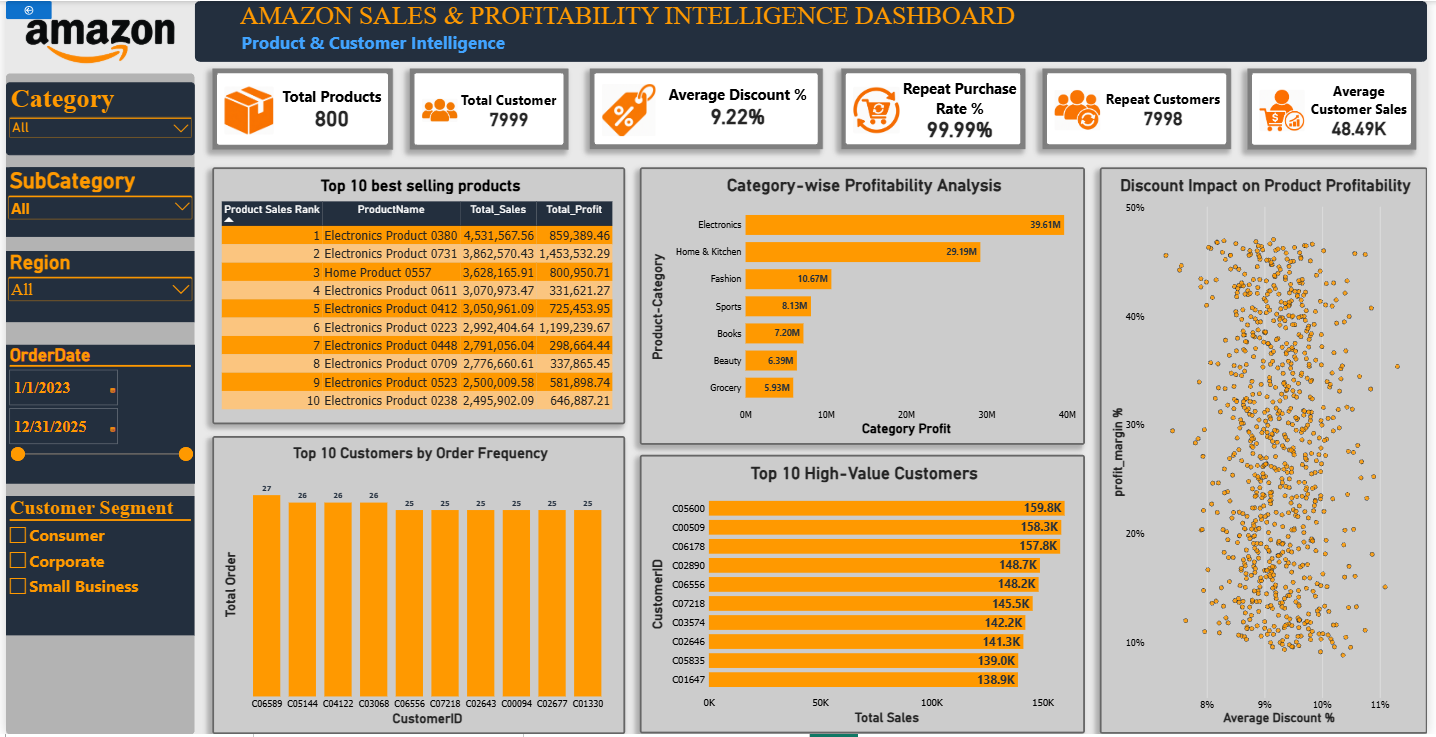

This screenshot's page, from the dashboard's own definition file:
{"tool":"powerbi","page":{"name":"product & customer intelligence","canvas":[3100,1600],"ordinal":1},"visuals":[{"type":"shape","box":[0,157.7,411.2,1441.9],"z":0},{"type":"shape","box":[412.1,0,2688.6,132.9],"z":1000},{"type":"image","box":[35.4,16.1,337.7,141.5],"z":2000},{"type":"textbox","box":[509.7,0,1934.7,132.4],"z":3000},{"type":"cardVisual","fields":{"Data":["Products.Total Products"]},"box":[450.6,146.4,394.3,177.4],"z":4000},{"type":"cardVisual","fields":{"Data":["Customers.Repeat Customers"]},"box":[2261.4,146.4,412.1,176.1],"z":5000},{"type":"cardVisual","fields":{"Data":["Sales.Average Discount %"]},"box":[1272.9,146.4,508.5,176.1],"z":6000},{"type":"cardVisual","fields":{"Data":["Customers.Average Customer Sales"]},"box":[2706.3,146.4,368.9,177.4],"z":7000},{"type":"cardVisual","fields":{"Data":["Customers.Repeat Purchase Rate %"]},"box":[1822,146.4,402.1,176.1],"z":8000},{"type":"tableEx","title":"Top 10 best selling products","fields":{"Values":["Products.Product Sales Rank","Products.ProductName","Sales.Total_Sales","Sales.Total_Profit"]},"box":[450.6,363.3,901.2,560.4],"z":9000},{"type":"actionButton","box":[0,0,100,40],"z":10000},{"type":"clusteredBarChart","title":"Category-wise Profitability Analysis","fields":{"Category":["Products.Category"],"Y":["Products.Category Profit"]},"box":[1382.7,363.3,971.6,605.5],"z":11000},{"type":"scatterChart","title":"\tDiscount Impact on Product Profitability","fields":{"Category":["Products.ProductName"],"X":["Sales.Average Discount %"],"Y":["Sales.profit_margin %"]},"box":[2385.3,363.3,715.3,1236.3],"z":12000},{"type":"clusteredBarChart","title":"Top 10 High-Value Customers","fields":{"Category":["Customers.CustomerID"],"Y":["Sales.Total_Sales"]},"box":[1382.7,988.5,971.6,608.3],"z":13000},{"type":"clusteredColumnChart","title":"Top 10 Customers by Order Frequency","fields":{"Category":["Customers.CustomerID"],"Y":["Sales.Total_Order"]},"box":[450.6,949,901.2,650.5],"z":14000},{"type":"slicer","fields":{"Values":["Products.Category"]},"box":[0,177.4,412.1,159.5],"z":15000},{"type":"slicer","fields":{"Values":["Customers.CustomerSegment"]},"box":[0,1078.6,411.2,304.1],"z":16000},{"type":"slicer","fields":{"Values":["Products.SubCategory"]},"box":[0,363.3,411.2,152.1],"z":17000},{"type":"slicer","fields":{"Values":["Sales.OrderDate"]},"box":[0,749.1,411.2,301.3],"z":18000},{"type":"slicer","fields":{"Values":["Regions.Region"]},"box":[0,546.3,411.2,154.9],"z":19000},{"type":"cardVisual","fields":{"Data":["Sales.Total_Customer"]},"box":[881.5,146.4,346.7,177.4],"z":20000}]}

Visuals, with their boxes in screenshot pixels (x1, y1, x2, y2), scaled from the page's 3100x1600 canvas onto the 1436x737 screenshot:
shape: box=[0, 73, 190, 736]
shape: box=[191, 0, 1435, 61]
image: box=[16, 7, 173, 73]
textbox: box=[236, 0, 1132, 61]
cardVisual - Products.Total Products: box=[209, 67, 391, 149]
cardVisual - Customers.Repeat Customers: box=[1048, 67, 1238, 149]
cardVisual - Sales.Average Discount %: box=[590, 67, 825, 149]
cardVisual - Customers.Average Customer Sales: box=[1254, 67, 1425, 149]
cardVisual - Customers.Repeat Purchase Rate %: box=[844, 67, 1030, 149]
"Top 10 best selling products" tableEx: box=[209, 167, 626, 425]
actionButton: box=[0, 0, 46, 18]
"Category-wise Profitability Analysis" clusteredBarChart: box=[641, 167, 1091, 446]
"	Discount Impact on Product Profitability" scatterChart: box=[1105, 167, 1435, 736]
"Top 10 High-Value Customers" clusteredBarChart: box=[641, 455, 1091, 736]
"Top 10 Customers by Order Frequency" clusteredColumnChart: box=[209, 437, 626, 736]
slicer - Products.Category: box=[0, 82, 191, 155]
slicer - Customers.CustomerSegment: box=[0, 497, 190, 637]
slicer - Products.SubCategory: box=[0, 167, 190, 237]
slicer - Sales.OrderDate: box=[0, 345, 190, 484]
slicer - Regions.Region: box=[0, 252, 190, 323]
cardVisual - Sales.Total_Customer: box=[408, 67, 569, 149]
